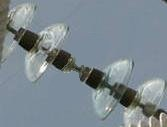gap: (22, 21, 137, 121)
